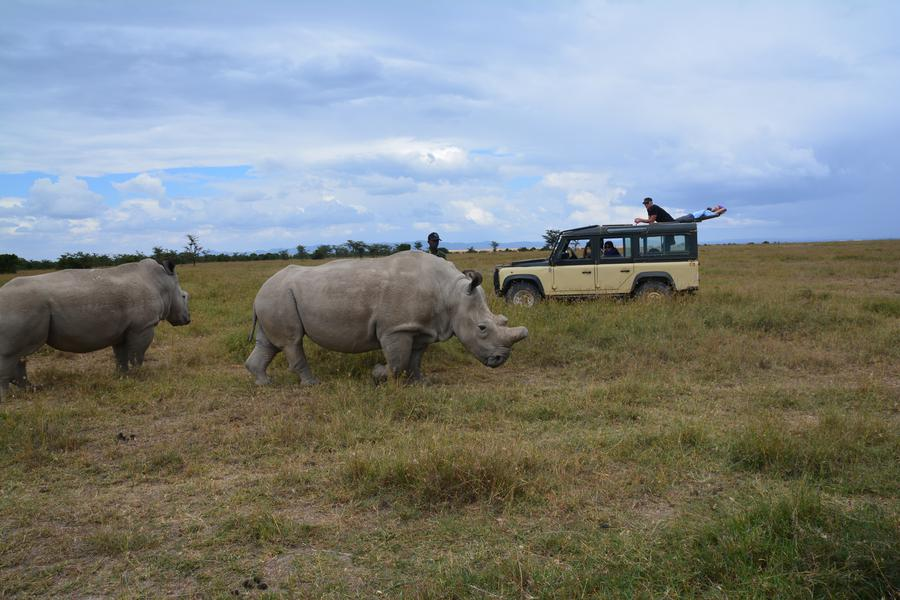rhino: (255, 249, 519, 365), (5, 254, 197, 384)
